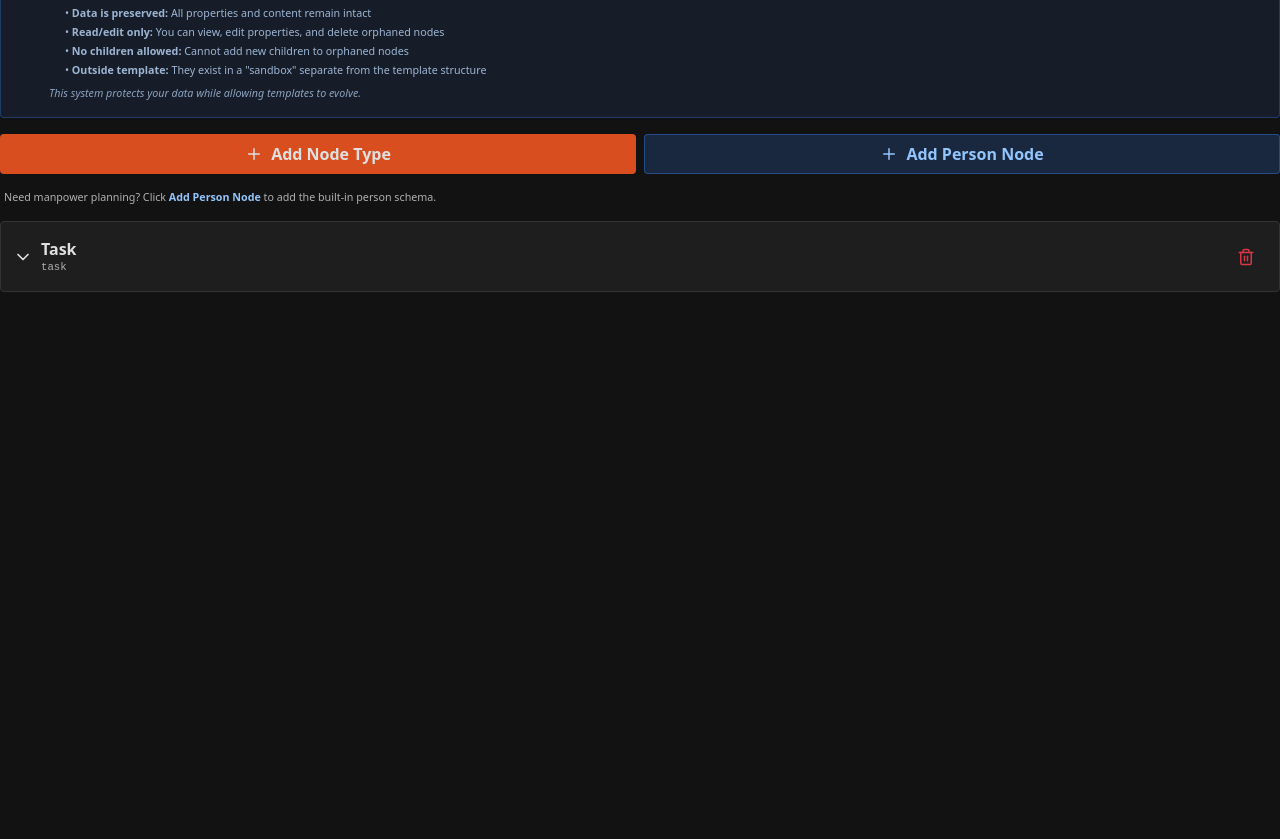
Scenario: NodeTypeEditor › keeps a select property valid when the last option is removed
The width and height of the screenshot is (1280, 839).
Click the heading "Task" at (59, 249), box top-left (41, 238), bottom-right (76, 260)
(page scrolled)
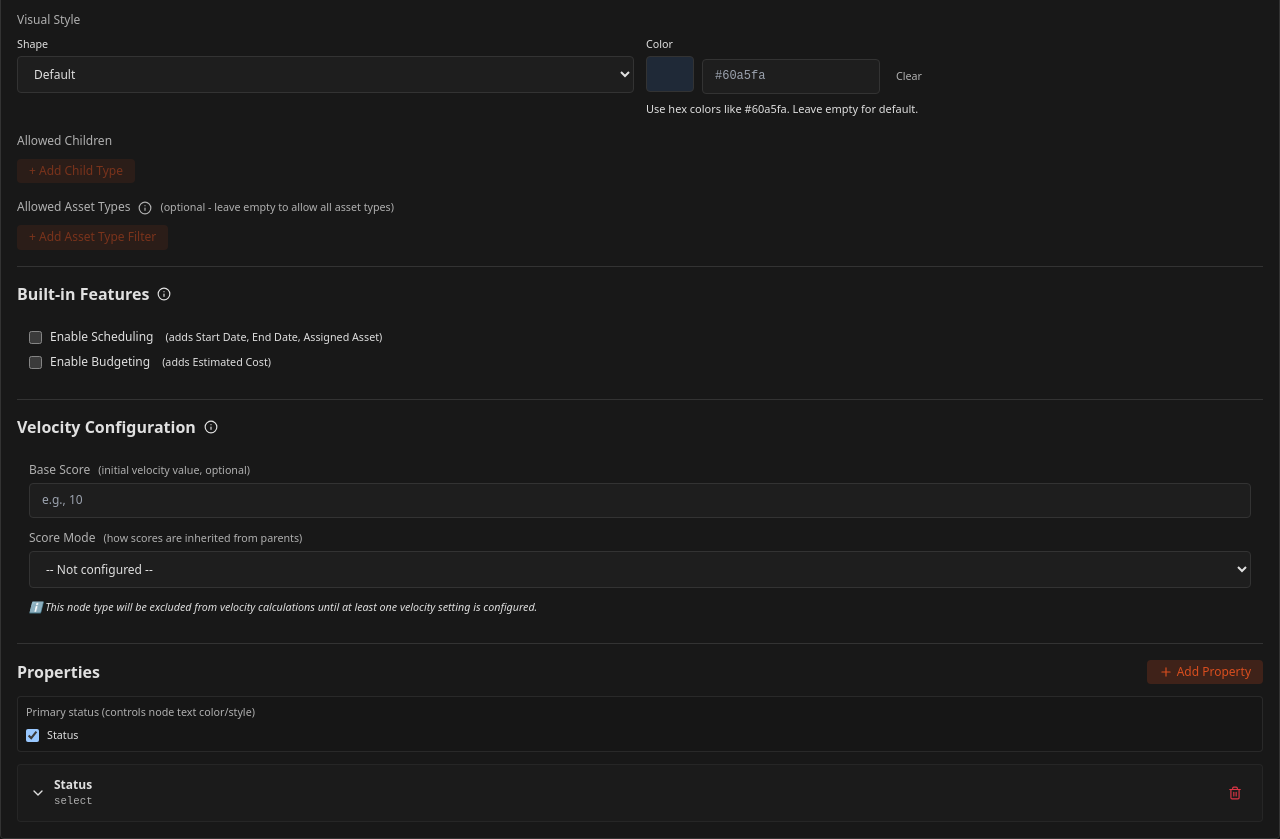
Click the heading "Status" at (73, 786), box top-left (54, 778), bottom-right (92, 794)
(page scrolled)
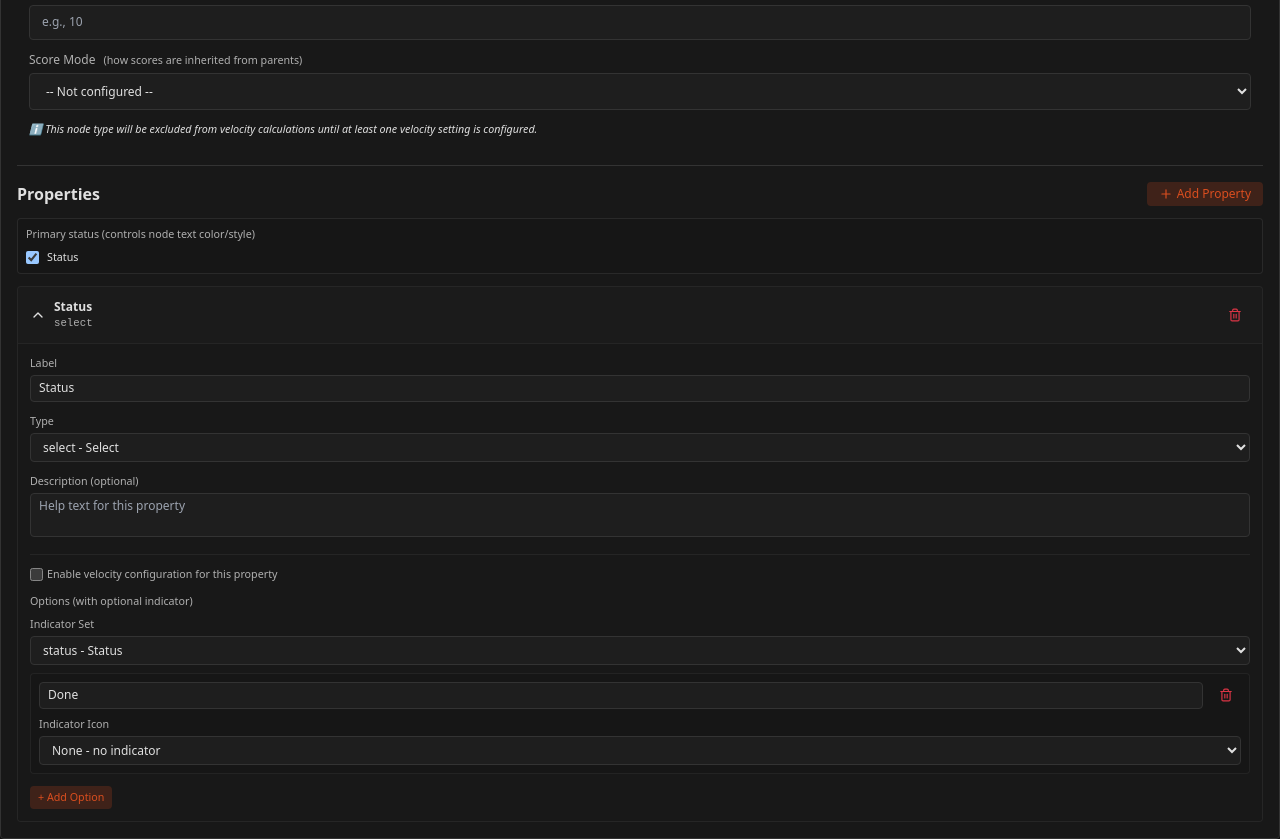
Click the button named "Remove option Done" at (1226, 696), box top-left (1211, 684), bottom-right (1241, 706)
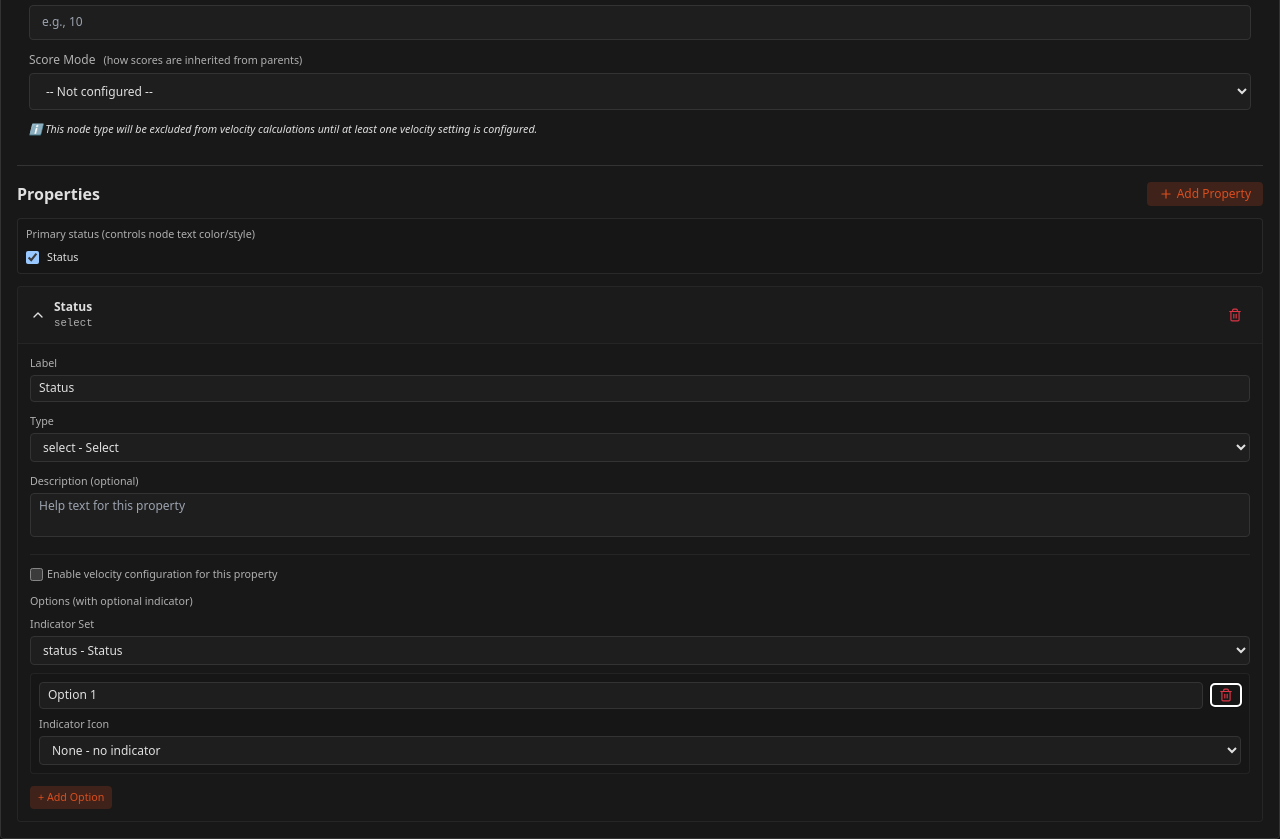
Result: the field showing "Option 1" below "Indicator Set" is shown at top-left (39, 682), bottom-right (1203, 709)
